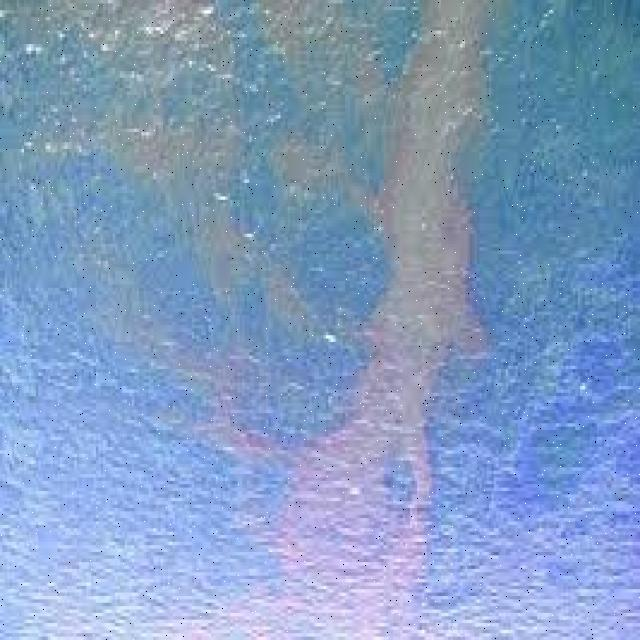oil: (295, 2, 483, 635)
